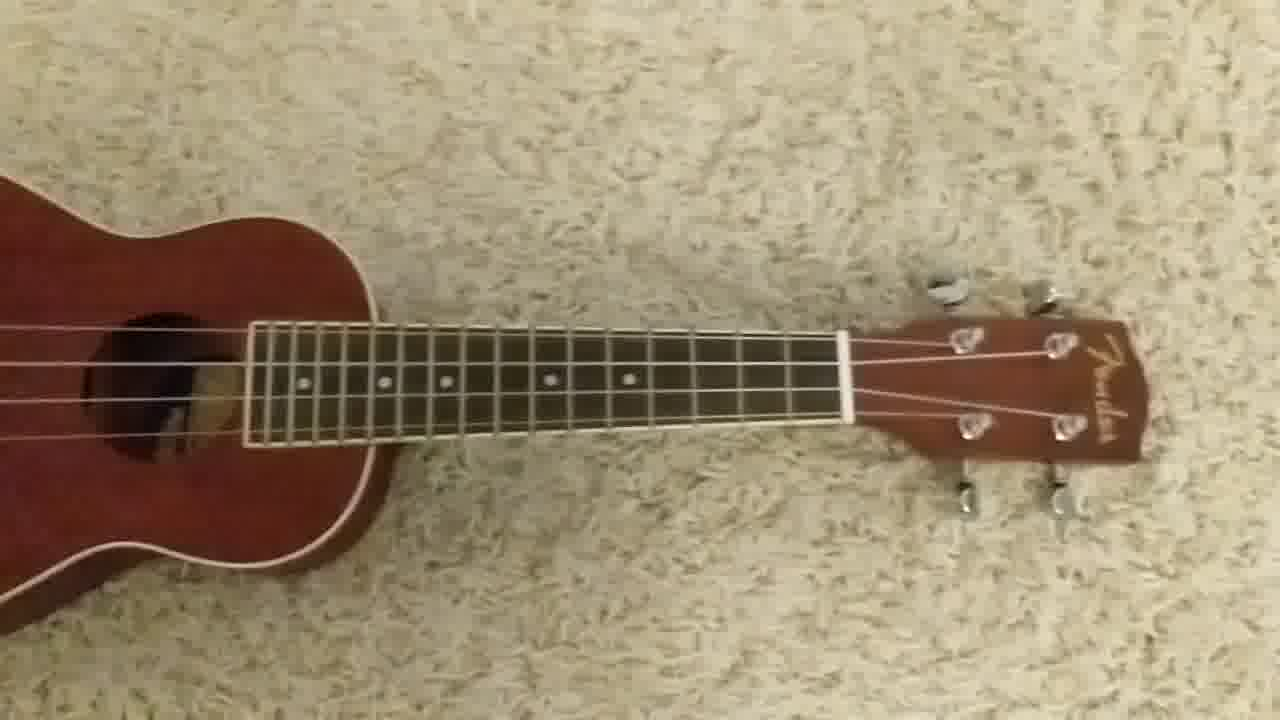Body: (1, 169, 399, 636)
Headstock: (857, 269, 1151, 523)
